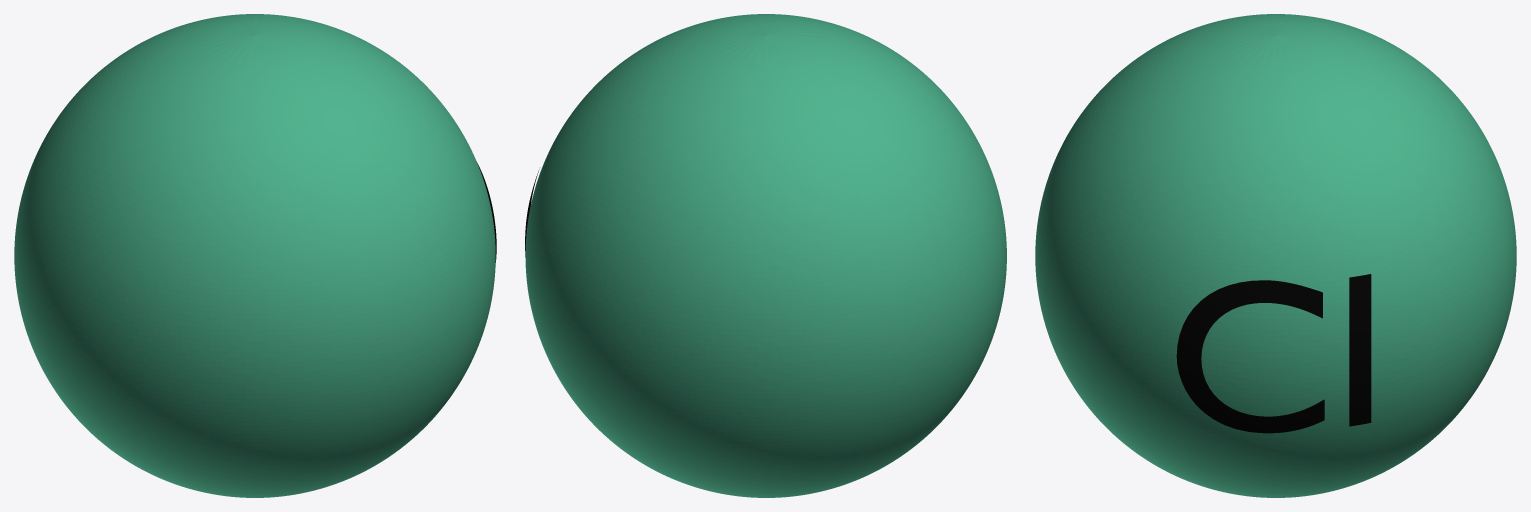
Rendered from Chlorine (Cl).fbx.
The picture shows the model from 3 angles, left to right: view 1: azimuth 30°, elevation 25°; view 2: azimuth 150°, elevation 25°; view 3: azimuth 270°, elevation 25°; orthographic projection.
Visible parts, largest first — view 1: Sphere.002; view 2: Sphere.002; view 3: Sphere.002, Text.002.
Boxes of the visible parts, <box> form: Sphere.002: <box>14,14,495,497</box>; Sphere.002: <box>525,14,1006,497</box>; Sphere.002: <box>1035,14,1516,497</box>; Text.002: <box>1176,274,1371,433</box>.
Bounding box in the file's own units: 197 × 200 × 197.
